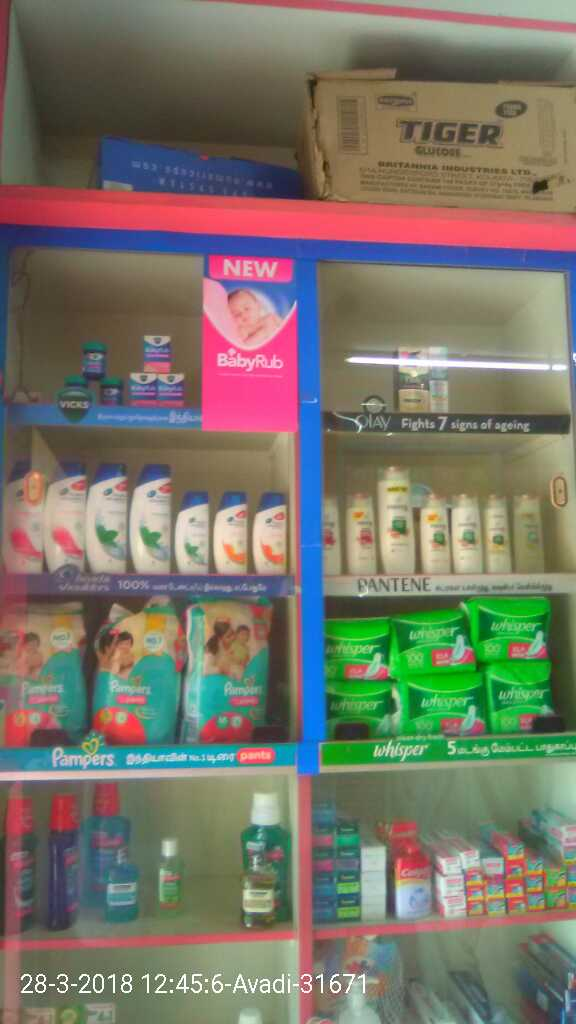vicks: (59, 330, 192, 411)
